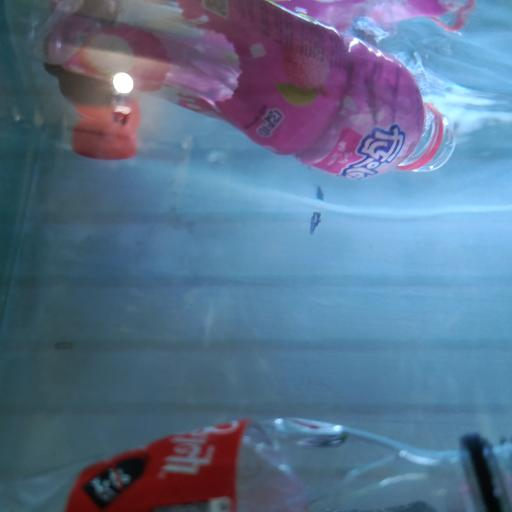bottle_cap: (73, 119, 139, 164)
plastic_bottle: (40, 0, 459, 181), (0, 416, 512, 512)
